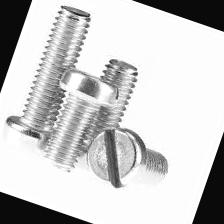slotted: (79, 116, 154, 196)
